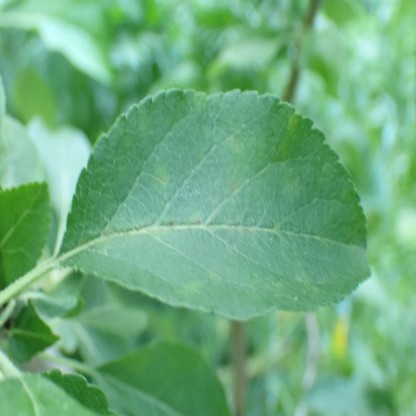scab: (280, 169, 298, 194), (178, 279, 201, 298), (155, 170, 169, 189), (287, 118, 297, 134), (229, 179, 238, 190)
